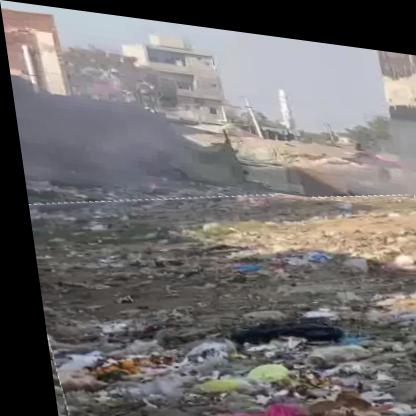Garbage: (18, 160, 416, 416)
